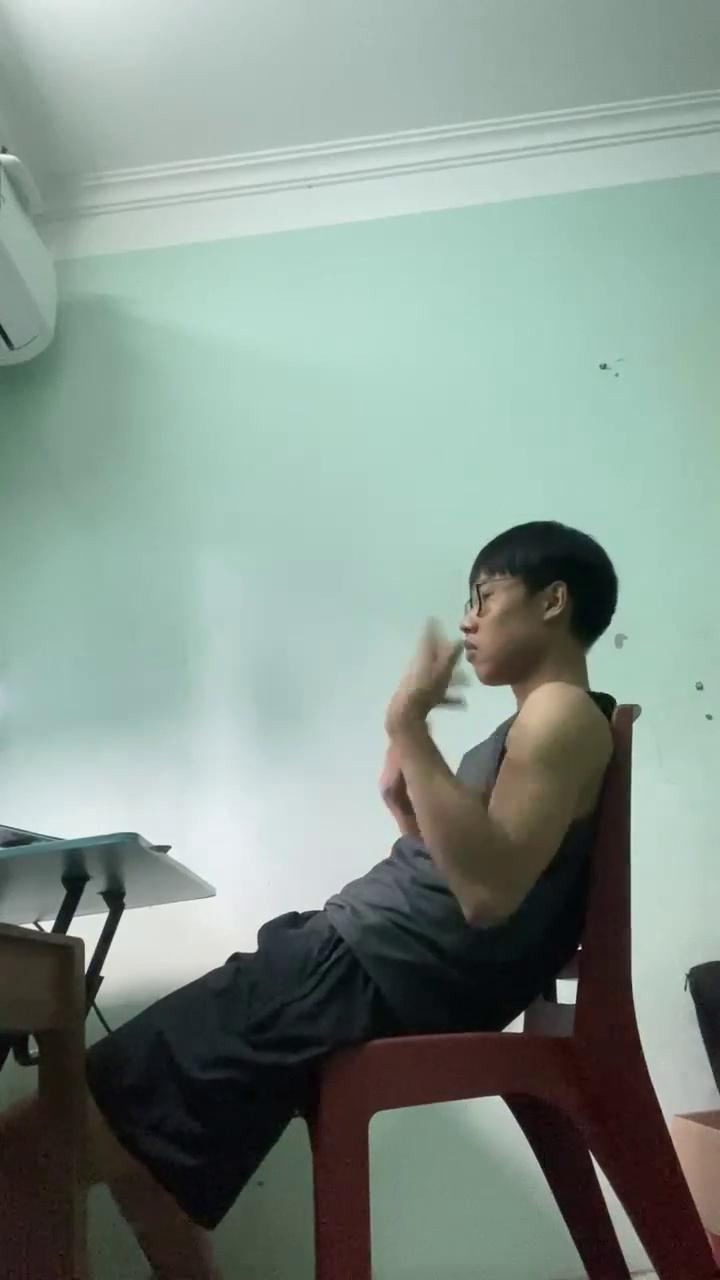BadPosture: (7, 525, 612, 1279)
